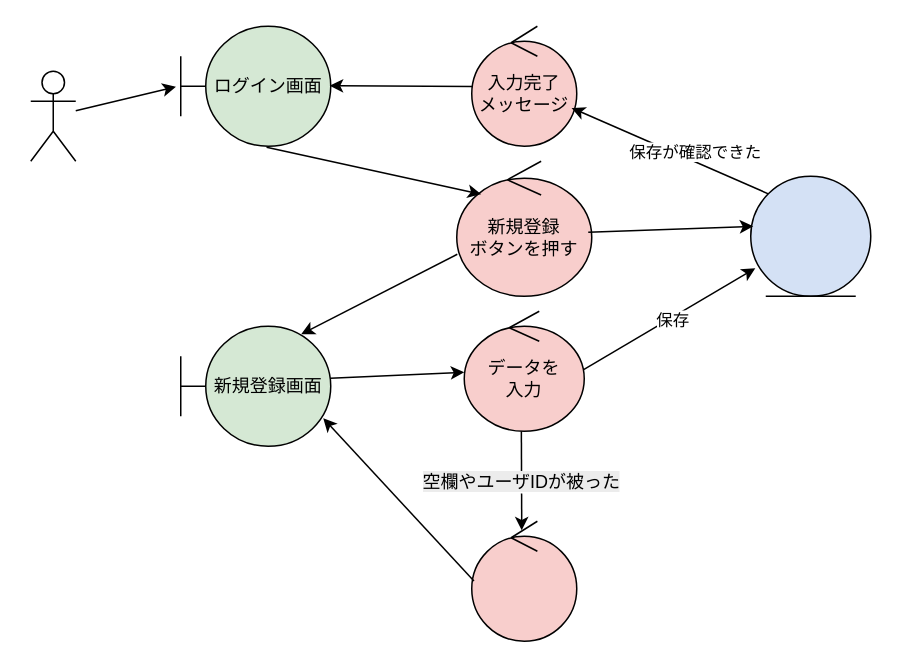
This 897x668 diagram has some shape labels left out. Here are the shapes that lost their labels. From the top down, the box of each, then its label:
(29, 70, 76, 161): 訪問者
(749, 175, 871, 296): 訪問者データ
(470, 520, 577, 641): エラー メッセージ
